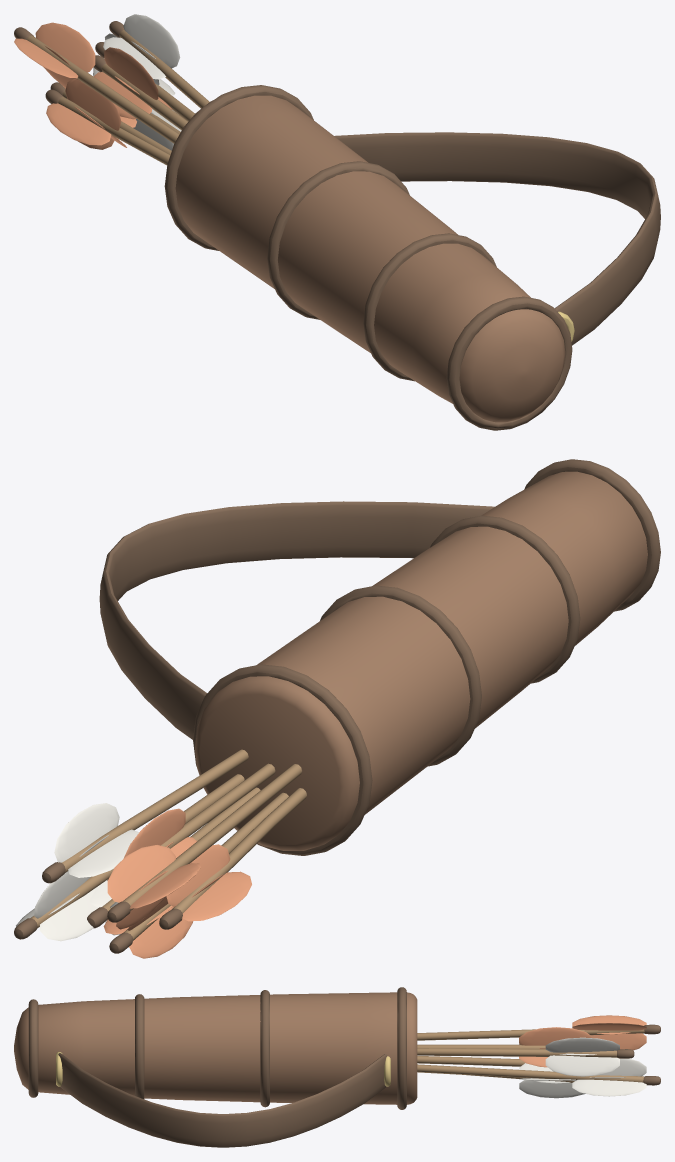
Rendered from th31_koecher.glb.
The picture shows the model from 3 angles, top to bottom: view 1: azimuth 30°, elevation 25°; view 2: azimuth 150°, elevation 25°; view 3: azimuth 270°, elevation 25°; orthographic projection. The views are drawn at different scales.
Visible parts, largest first — view 1: Dreh, Rohr.007, Torus, Torus.003, Torus.002, Torus.001, Rohr.002, Sphere.018, Sphere.015, Sphere.031, Sphere.032, Sphere.012 (+6 smaller); view 2: Dreh, Rohr.007, Torus.003, Torus.002, Torus, Torus.001, Rohr.002, Rohr.001, Sphere.018, Sphere.015, Sphere.031, Rohr.006 (+10 smaller); view 3: Dreh, Rohr.007, Rohr.005, Rohr.001, Sphere.016, Torus.003, Rohr.002, Torus.002, Torus, Sphere.027, Torus.001, Sphere.015 (+9 smaller).
Boxes of the visible parts, x1=… form: Dreh: x1=168, y1=95, x2=565, y2=422; Rohr.007: x1=334, y1=132, x2=660, y2=345; Torus: x1=446, y1=296, x2=572, y2=430; Torus.003: x1=164, y1=85, x2=313, y2=250; Torus.002: x1=267, y1=161, x2=409, y2=319; Torus.001: x1=363, y1=233, x2=496, y2=381; Rohr.002: x1=26, y1=35, x2=179, y2=143; Sphere.018: x1=35, y1=22, x2=95, y2=72; Sphere.015: x1=123, y1=14, x2=180, y2=68; Sphere.031: x1=46, y1=103, x2=111, y2=145; Sphere.032: x1=65, y1=78, x2=121, y2=130; Sphere.012: x1=104, y1=47, x2=158, y2=99; Dreh: x1=195, y1=471, x2=647, y2=850; Rohr.007: x1=99, y1=501, x2=494, y2=739; Torus.003: x1=193, y1=664, x2=372, y2=855; Torus.002: x1=320, y1=585, x2=481, y2=766; Torus: x1=524, y1=459, x2=660, y2=611; Torus.001: x1=430, y1=515, x2=580, y2=683; Rohr.002: x1=122, y1=764, x2=301, y2=910; Rohr.001: x1=62, y1=749, x2=248, y2=872; Sphere.018: x1=107, y1=845, x2=175, y2=902; Sphere.015: x1=54, y1=803, x2=119, y2=862; Sphere.031: x1=182, y1=871, x2=251, y2=921; Rohr.006: x1=172, y1=788, x2=306, y2=913; Dreh: x1=14, y1=992, x2=417, y2=1104; Rohr.007: x1=58, y1=1053, x2=387, y2=1147; Rohr.005: x1=417, y1=1064, x2=643, y2=1082; Rohr.001: x1=417, y1=1048, x2=616, y2=1057; Sphere.016: x1=545, y1=1055, x2=619, y2=1076; Torus.003: x1=397, y1=987, x2=406, y2=1109; Rohr.002: x1=417, y1=1029, x2=644, y2=1040; Torus.002: x1=260, y1=990, x2=269, y2=1107; Torus: x1=28, y1=999, x2=38, y2=1097; Sphere.027: x1=572, y1=1079, x2=646, y2=1096; Torus.001: x1=135, y1=994, x2=144, y2=1098; Sphere.015: x1=545, y1=1037, x2=619, y2=1052.
Bounding box in the file's own units: 0.3989 × 0.1767 × 0.927.
